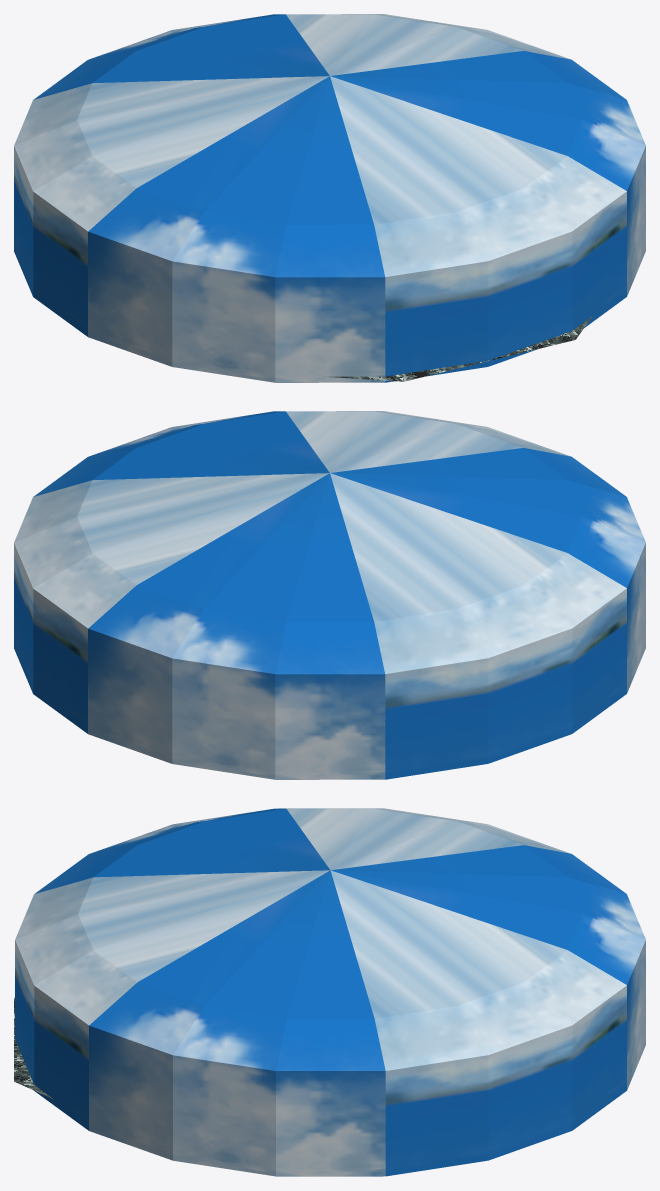
The picture shows the model from 3 angles, top to bottom: view 1: azimuth 30°, elevation 25°; view 2: azimuth 150°, elevation 25°; view 3: azimuth 270°, elevation 25°; orthographic projection.
Visible parts, largest first — view 1: mesh00; view 2: mesh00; view 3: mesh00.
Part boxes in pixels (bbox=[...]): mesh00: bbox=[14, 14, 645, 382]; mesh00: bbox=[14, 411, 645, 779]; mesh00: bbox=[14, 808, 645, 1176].
Bounding box in the file's own units: 104408 × 32427 × 106178.
